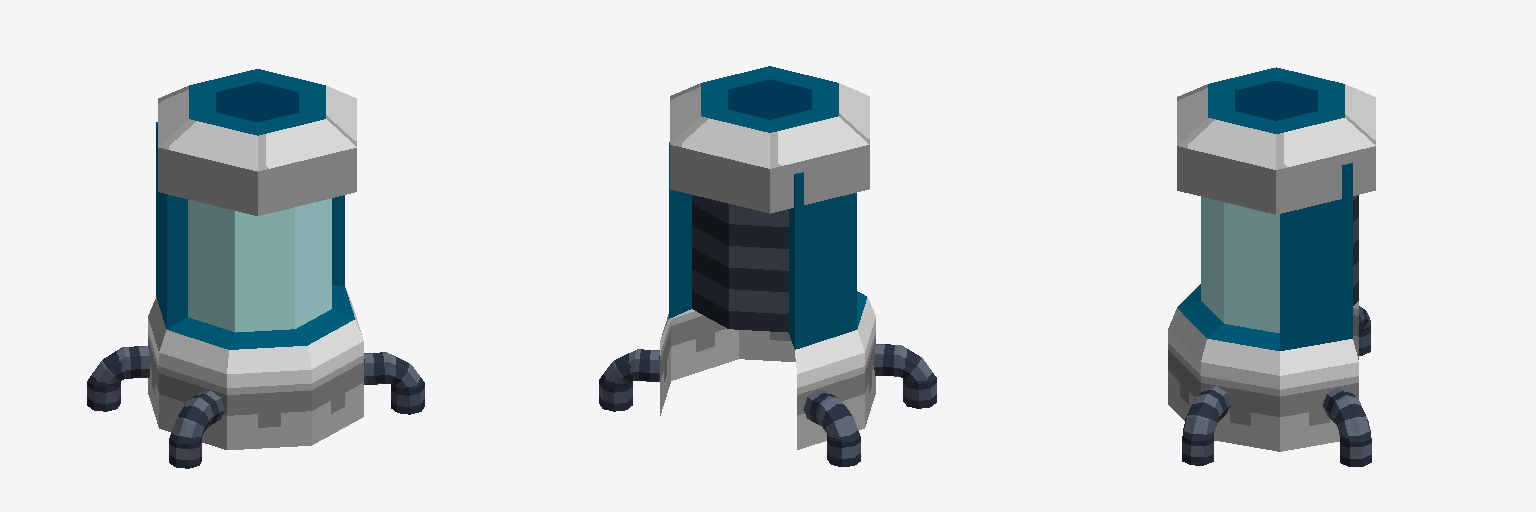
3 views of the same model, side by side, from view 1: azimuth 30°, elevation 25°; view 2: azimuth 150°, elevation 25°; view 3: azimuth 270°, elevation 25° (orthographic).
Visible parts, largest first — view 1: polygon1, polygon2, polygon5, polygon0, polygon3; view 2: polygon1, polygon3, polygon0, polygon5; view 3: polygon1, polygon2, polygon0, polygon5, polygon3.
Part boxes in pixels (x1,y1,x2,y2): polygon1: (148, 69, 363, 449); polygon2: (188, 198, 331, 332); polygon5: (158, 148, 356, 215); polygon0: (158, 86, 356, 171); polygon3: (87, 346, 424, 468); polygon1: (660, 66, 875, 449); polygon3: (599, 195, 936, 466); polygon0: (670, 83, 869, 168); polygon5: (670, 145, 869, 213); polygon1: (1168, 67, 1358, 451); polygon2: (1201, 197, 1279, 332); polygon0: (1177, 84, 1375, 169); polygon5: (1177, 146, 1375, 214); polygon3: (1182, 195, 1371, 466).
Bounding box in the file's own units: 4.58 × 5.32 × 4.27.
Materials: 6 (6 with a texture image).